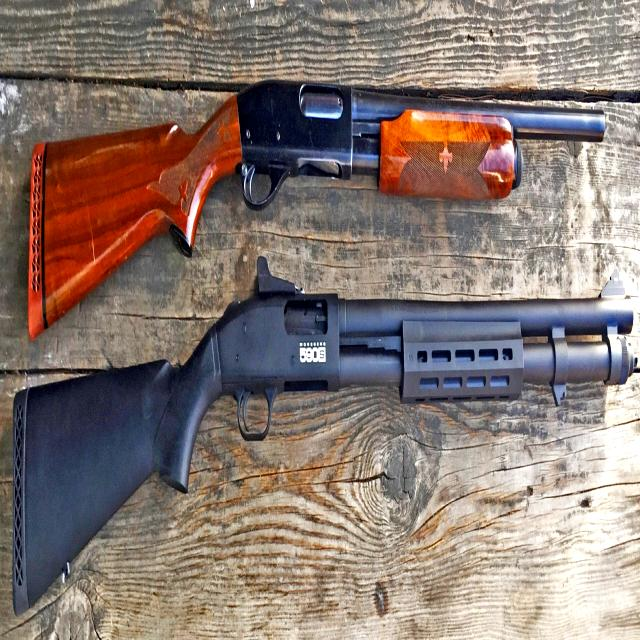shotgun: (0, 277, 640, 640), (10, 31, 614, 277)
